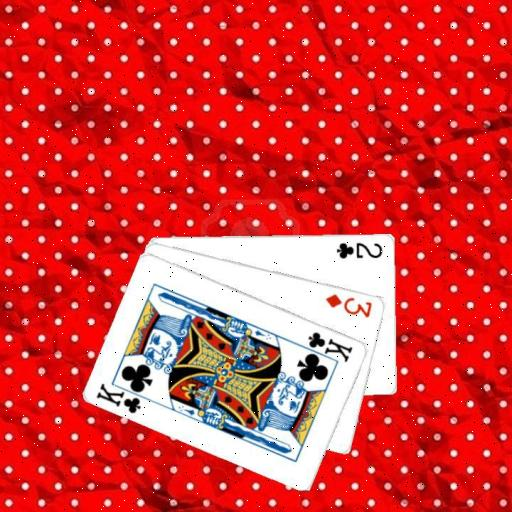2C: (334, 238, 385, 260)
3D: (322, 290, 374, 319)
KC: (297, 329, 355, 365), (94, 379, 152, 415)
